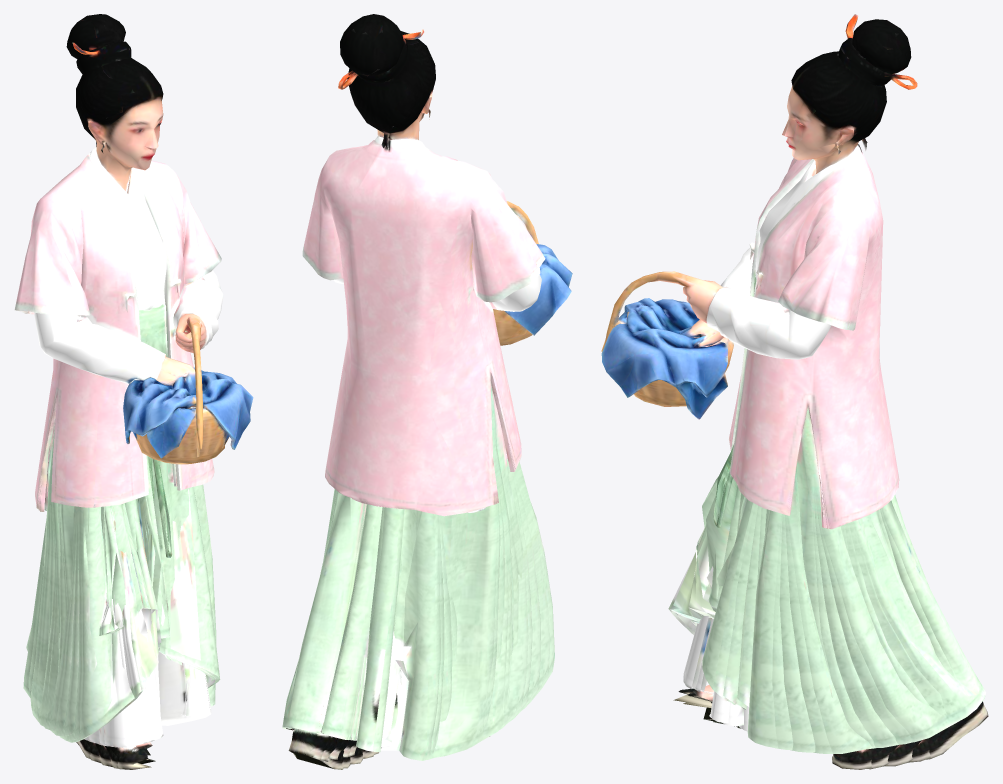
Rendered from p_woman_walk.glb.
The picture shows the model from 3 angles, left to right: view 1: azimuth 30°, elevation 25°; view 2: azimuth 150°, elevation 25°; view 3: azimuth 270°, elevation 25°; orthographic projection. The views are drawn at different scales.
Parts seen in each view (by area): view 1: f0, f2, f6, f5, f1; view 2: f0, f2, f6, f1, f5; view 3: f0, f2, f6, f1, f5.
Part boxes in pixels (x1,y1,x2,y2): f0: (14,14,253,766); f2: (26,390,213,769); f6: (23,373,220,758); f5: (28,463,214,762); f1: (29,464,213,768); f0: (302,14,572,764); f2: (282,337,554,769); f6: (349,364,528,760); f1: (287,388,549,768); f5: (343,427,532,759); f0: (601,14,929,766); f2: (668,361,988,759); f6: (702,368,883,769); f1: (675,450,955,762); f5: (717,460,898,769).
Bounding box in the file's own units: 0.5174 × 1.66 × 0.7971.
1 material, 1 textured.
